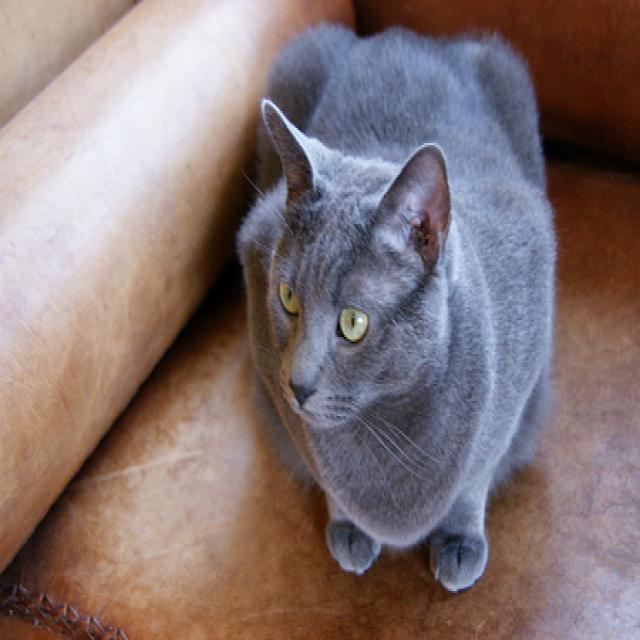Russian Blue: (231, 19, 557, 595)
